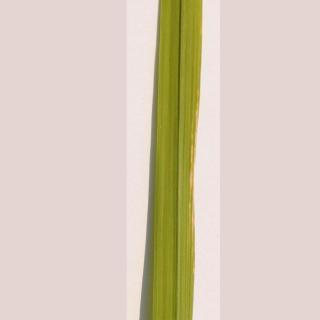Hawar-Daun: (169, 29, 205, 320)
